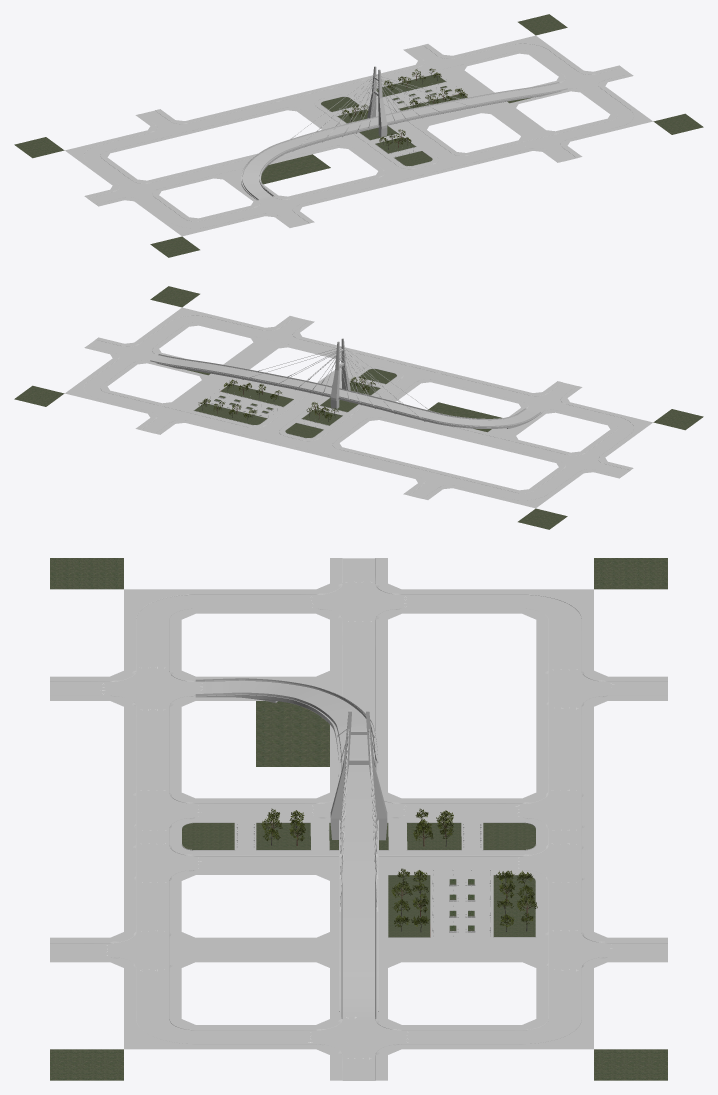
The model's file is Double-Block-06.fbx.
3 renders of one model, top to bottom at view 1: azimuth 30°, elevation 25°; view 2: azimuth 150°, elevation 25°; view 3: azimuth 270°, elevation 25°, orthographic. The views are drawn at different scales.
Visible parts, largest first — view 1: Double Block-06, Double Block-06-B, Double Block-06-Sidewalk-B, Double Block-06-Sidewalk, Bridge; view 2: Double Block-06-B, Double Block-06, Double Block-06-Sidewalk-B, Double Block-06-Sidewalk, Bridge; view 3: Double Block-06-B, Double Block-06, Double Block-06-Sidewalk-B, Double Block-06-Sidewalk, Bridge, Trees.-D, Trees, Trees-C, Flowerbed.
Part boxes in pixels (x1=…): Double Block-06: x1=14, y1=91, x2=431, y2=257; Double Block-06-B: x1=321, y1=14, x2=703, y2=172; Double Block-06-Sidewalk-B: x1=318, y1=35, x2=652, y2=174; Double Block-06-Sidewalk: x1=65, y1=88, x2=434, y2=236; Bridge: x1=225, y1=66, x2=567, y2=200; Double Block-06-B: x1=14, y1=286, x2=396, y2=444; Double Block-06: x1=286, y1=363, x2=703, y2=529; Double Block-06-Sidewalk-B: x1=65, y1=307, x2=399, y2=446; Double Block-06-Sidewalk: x1=283, y1=360, x2=652, y2=508; Bridge: x1=150, y1=338, x2=542, y2=436; Double Block-06-B: x1=50, y1=836, x2=667, y2=1080; Double Block-06: x1=50, y1=558, x2=667, y2=836; Double Block-06-Sidewalk-B: x1=50, y1=836, x2=667, y2=1080; Double Block-06-Sidewalk: x1=50, y1=558, x2=667, y2=836; Bridge: x1=195, y1=678, x2=387, y2=1019; Trees.-D: x1=391, y1=868, x2=429, y2=932; Trees: x1=496, y1=870, x2=537, y2=931; Trees-C: x1=261, y1=808, x2=305, y2=845; Flowerbed: x1=236, y1=825, x2=490, y2=932.
Size of what is drawn, in the model's own units: 600 by 68.01 by 300.
